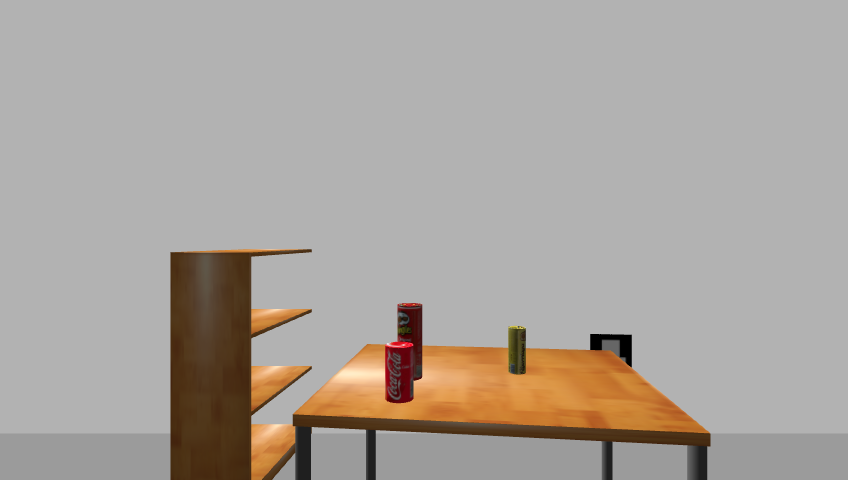aruco marker: (585, 332, 636, 371)
biscuits pack: (507, 326, 528, 376)
bookshelf: (165, 246, 319, 480)
coke can: (383, 341, 418, 404)
dinner table: (288, 343, 718, 480)
pringles can: (395, 302, 424, 383)
